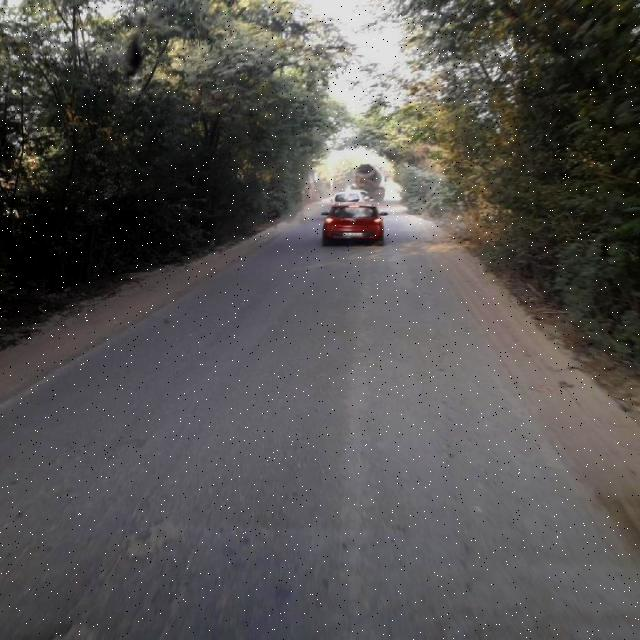D00: (66, 494, 136, 639), (159, 490, 229, 634)
D20: (146, 337, 536, 637)
D40: (120, 496, 188, 563)
